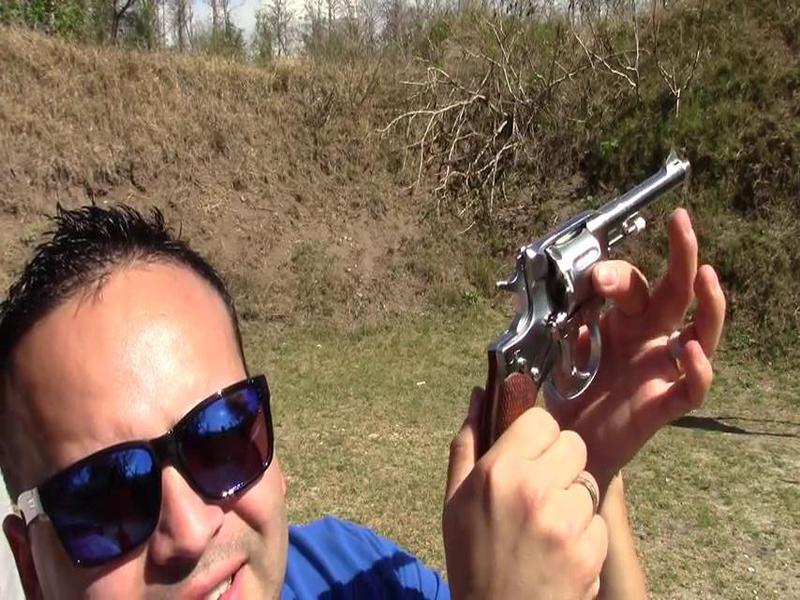Revolver: (490, 143, 700, 469)
